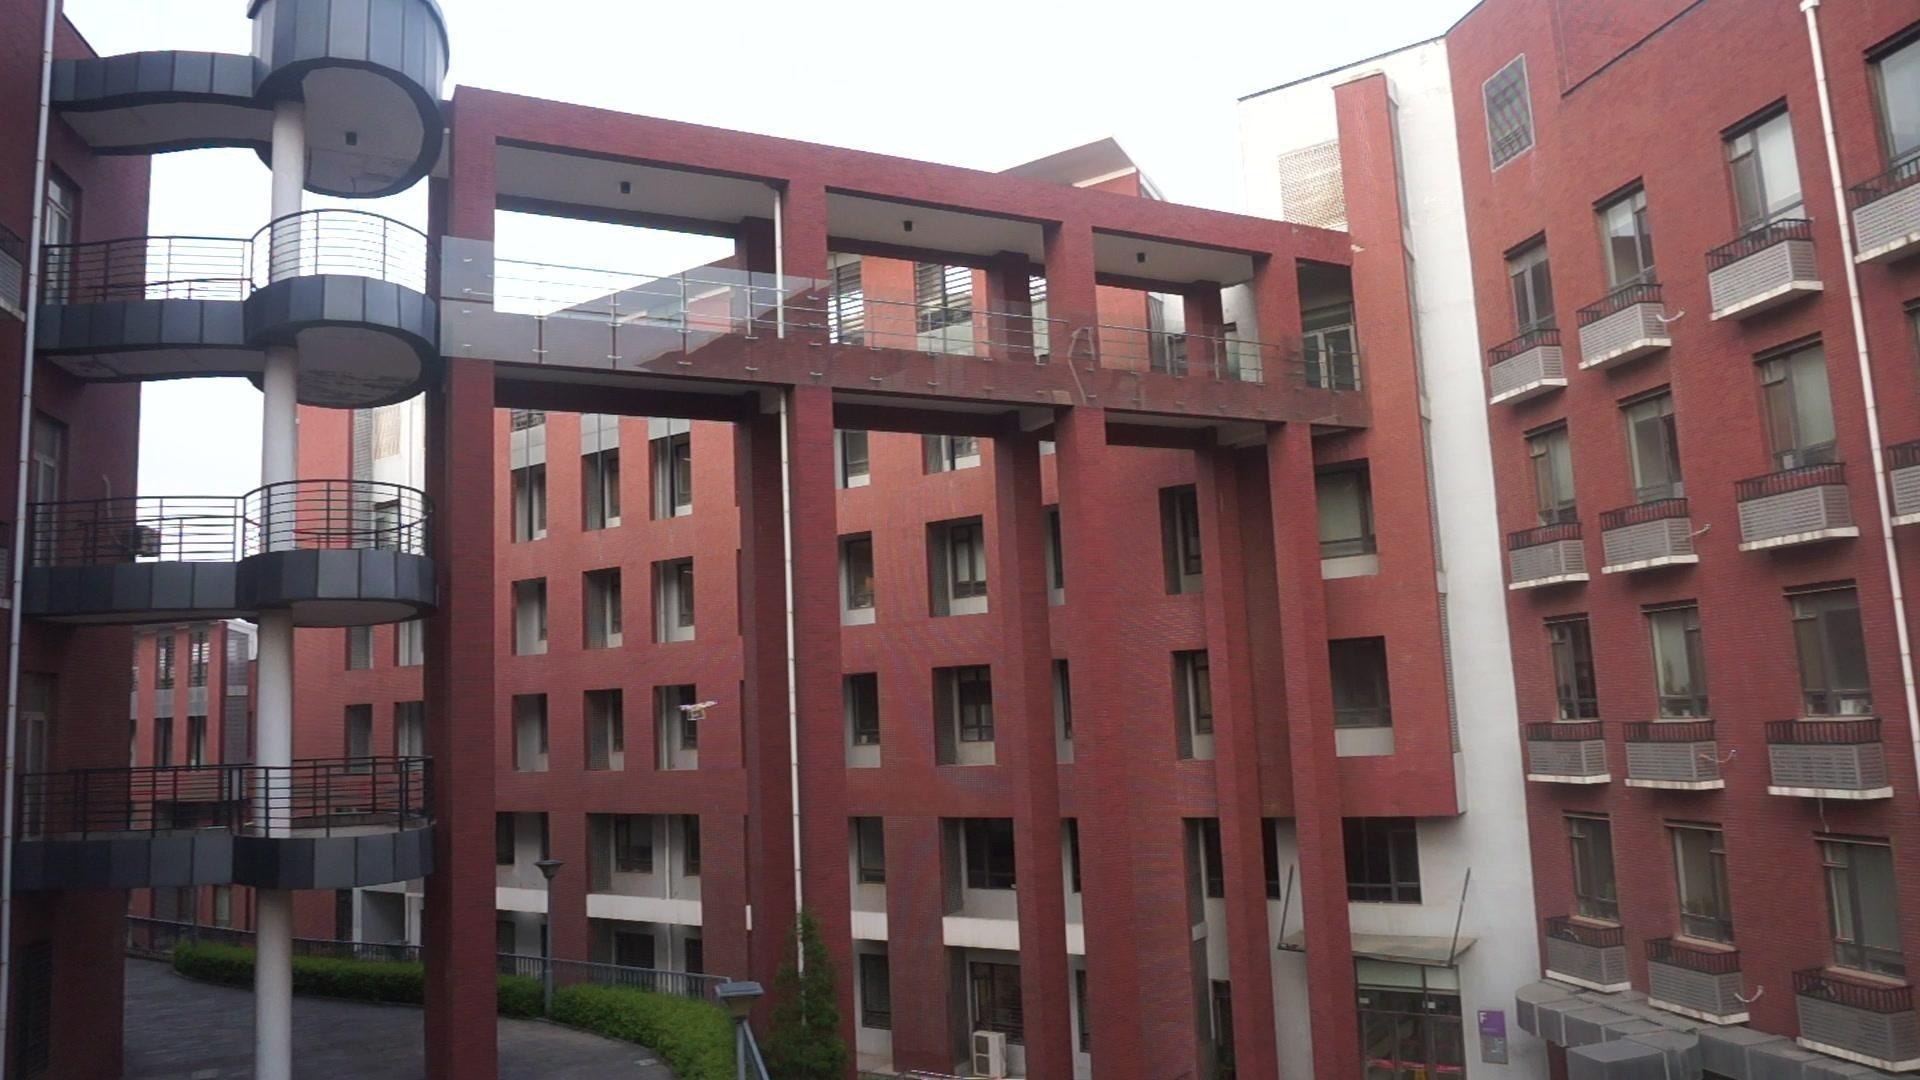UAV: (675, 700, 719, 723)
